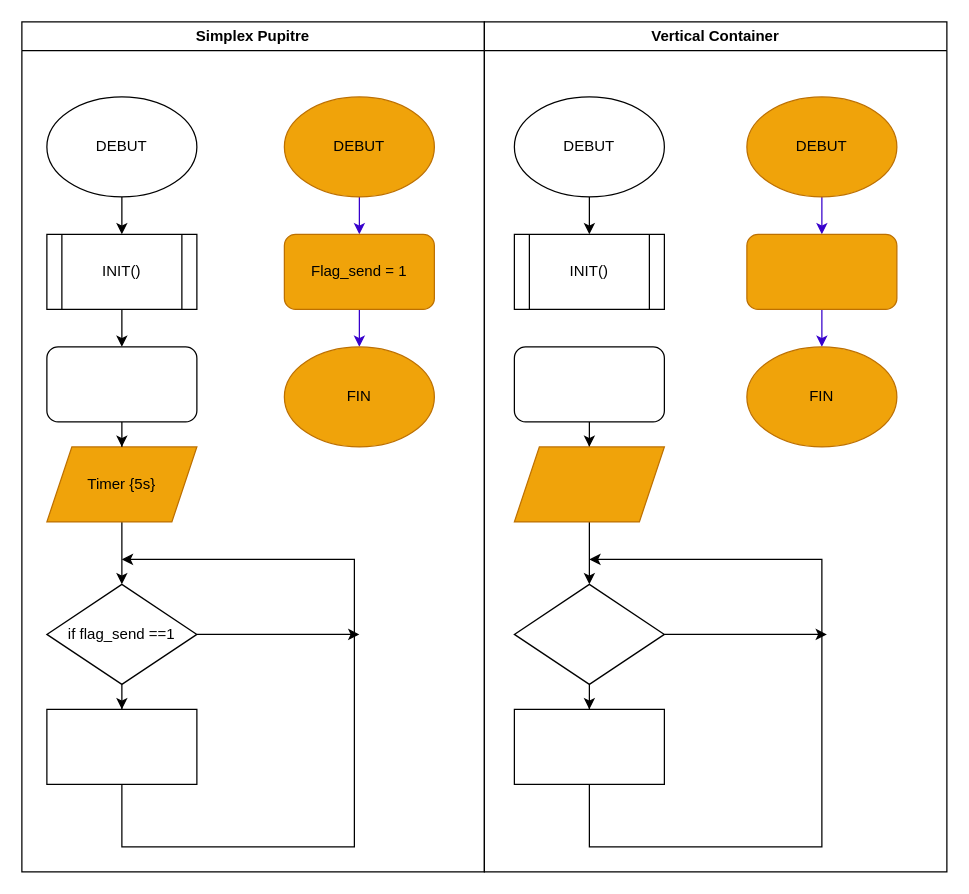
Image size: 969x894. Some labels were removed from this diagram. The shapes that lost their labels are listed below. From the top down, each one's centre as x and y in pixels, then its label:
At pixel 821 271: "Flag_recpt = 1".
At pixel 121 384: "Flag_send = 0".
At pixel 588 384: "Flag_recpt = 0".
At pixel 588 484: "IRQ RX".
At pixel 588 633: "if flag_recpt ==1".
At pixel 121 746: "Envoie_trame()".
At pixel 588 746: "Lecture_trame()".
